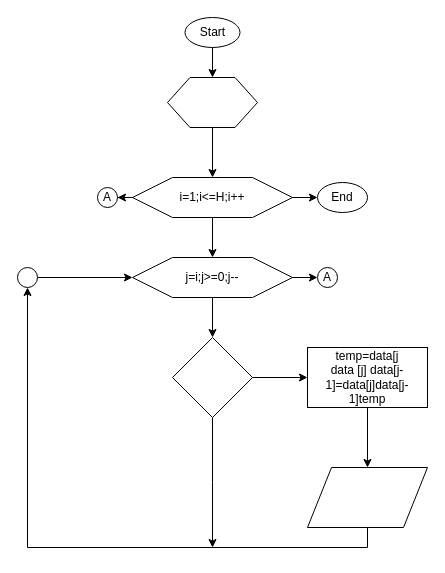
This 445x573 diagram has some shape labels left out. Here are the shapes that lost their labels. From the top down, the box of each, then its label:
(166, 76, 258, 128): data=[array],H,i,j,temp
(172, 336, 252, 418): if data [j-1]> data[j]
(306, 466, 428, 528): Output"print"
